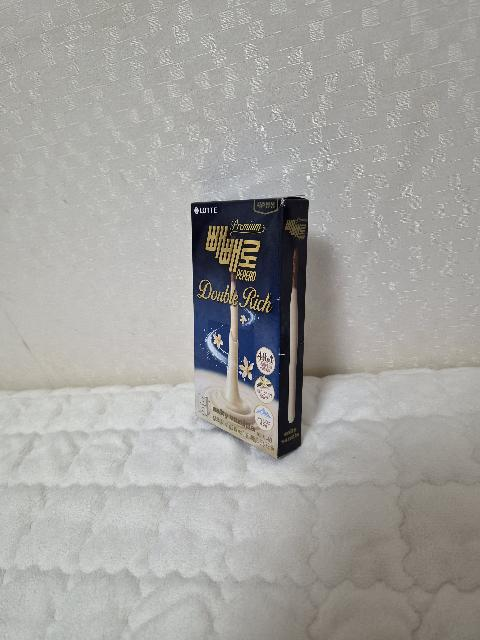pepero: (191, 195, 309, 460)
